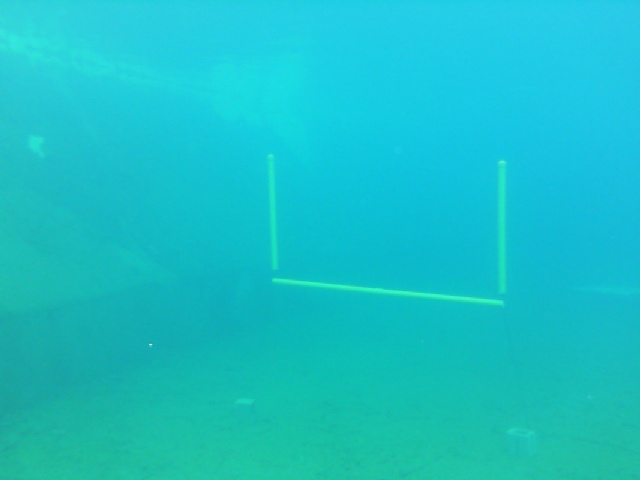channel: (264, 151, 514, 310)
